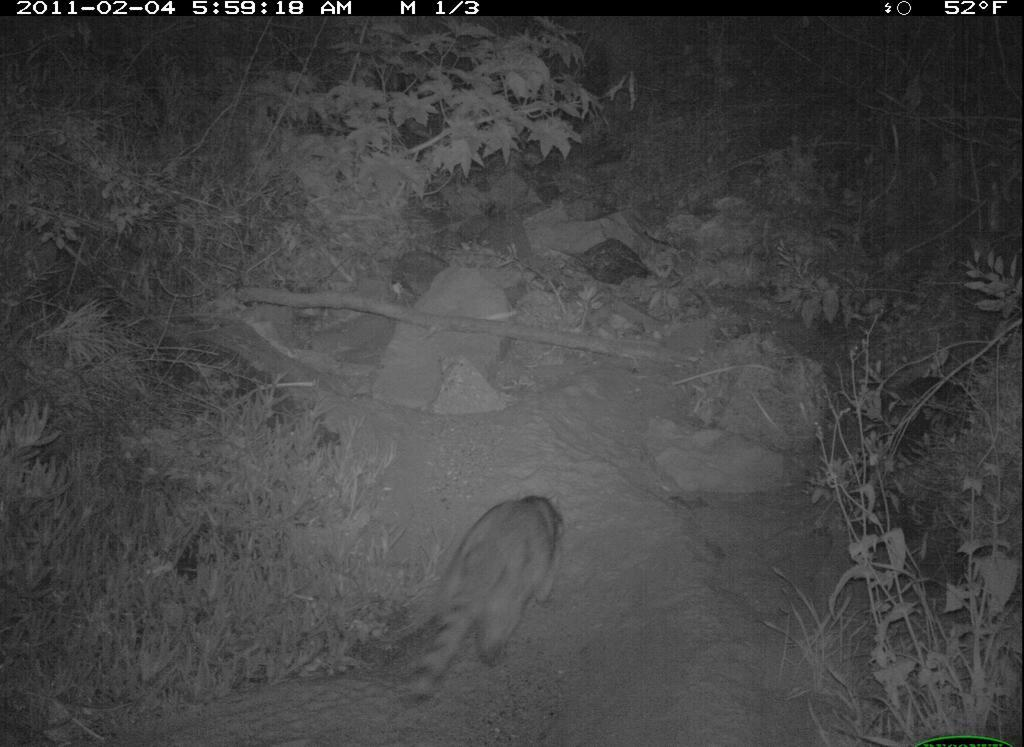raccoon: (405, 487, 571, 715)
